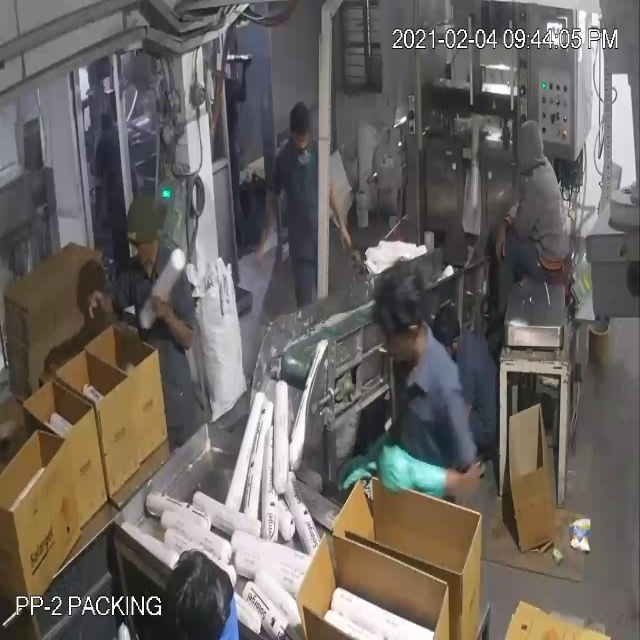Guantes: (372, 436, 455, 509), (336, 425, 392, 496)
Sin_guantes: (146, 286, 200, 360), (253, 174, 284, 284), (323, 171, 355, 257), (85, 280, 122, 332), (486, 209, 517, 261)
